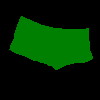mutande: (9, 15, 93, 70)
